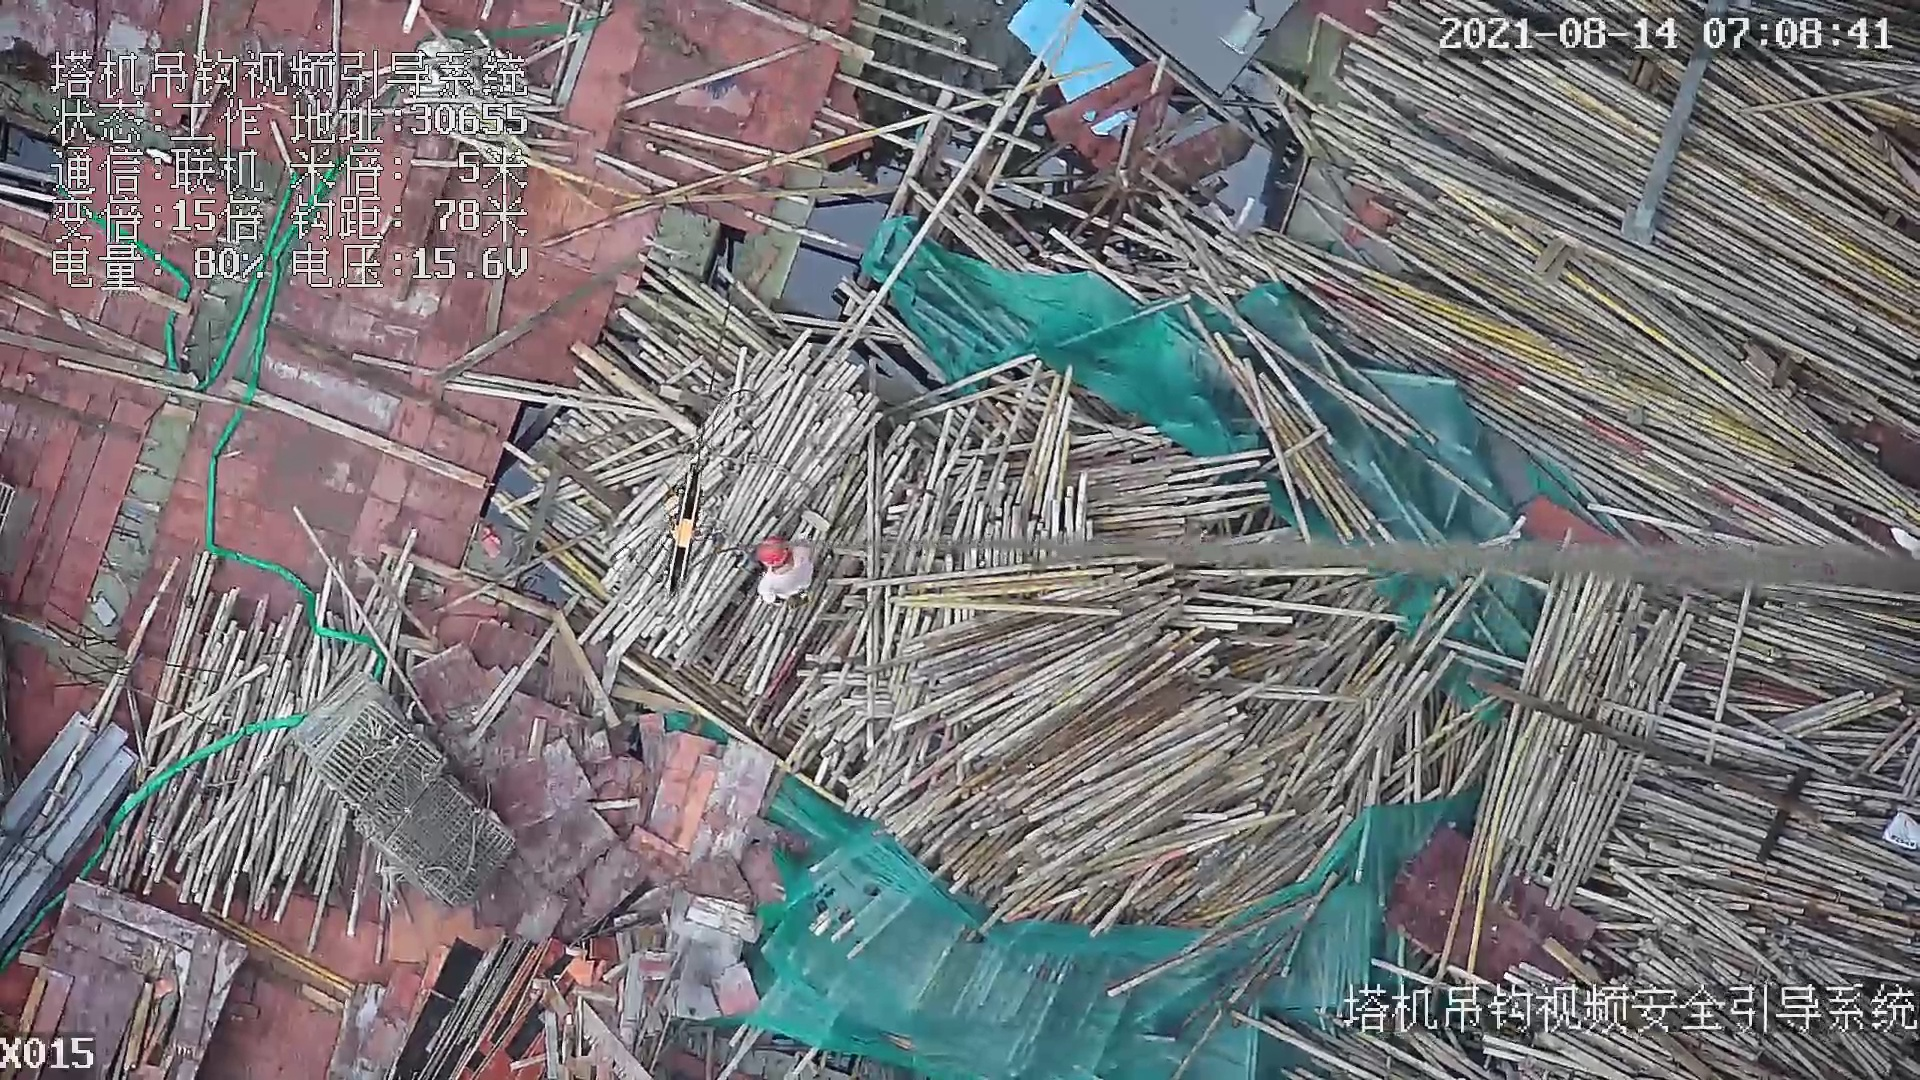helmet: (758, 536, 792, 568)
hook: (664, 460, 715, 600)
person: (751, 533, 815, 610)
